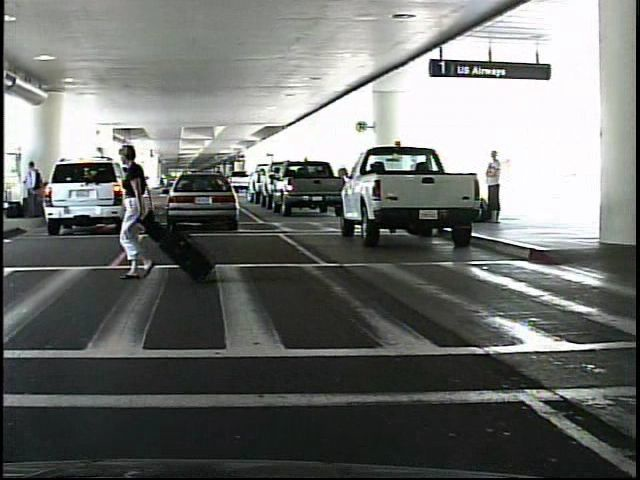person: (115, 146, 177, 285), (477, 152, 513, 225), (24, 158, 43, 220)
